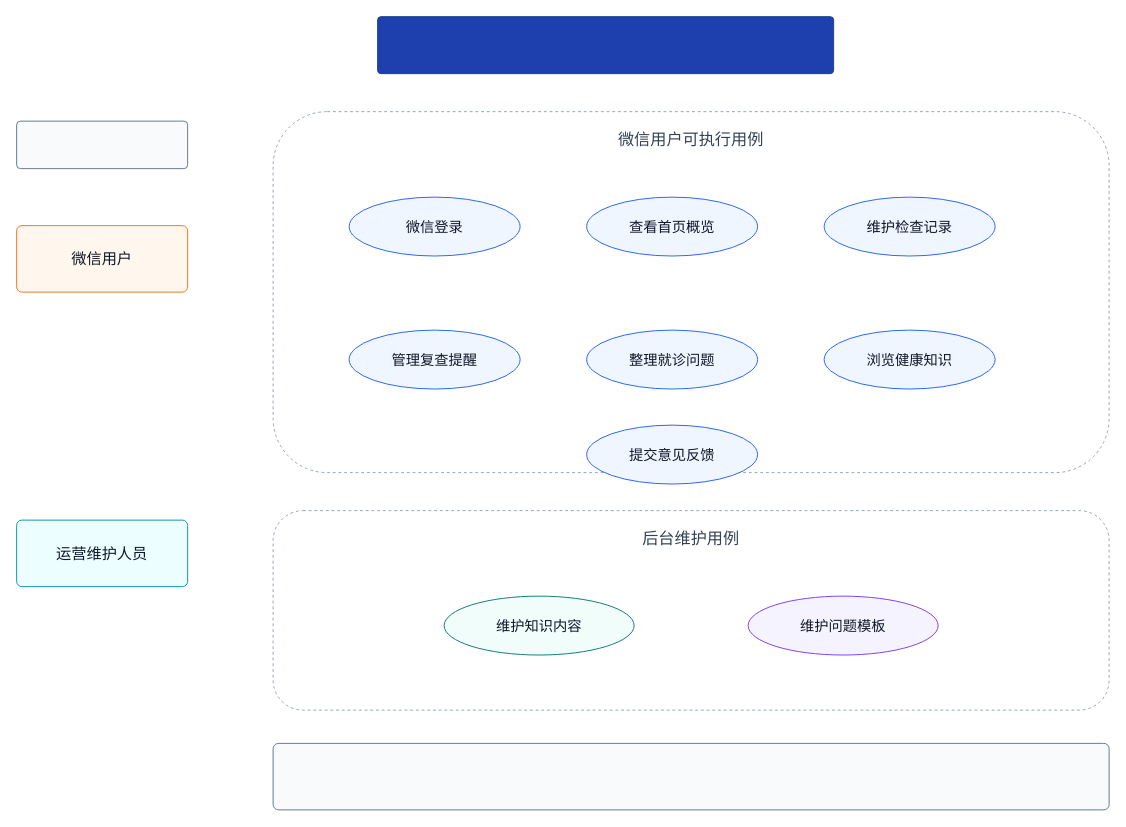
Image size: 1126x827. Some labels were removed from this diagram. Here are the shapes that lost their labels. From the top down, the centre of each, then its label:
[605,45]: 云端智诊小程序系统用例图
[102,144]: 参与者
[690,776]: 说明 用户侧用例围绕健康记录、提醒和就诊准备展开；维护侧只处理公共知识与问题模板，不接触用户隐私数据。
